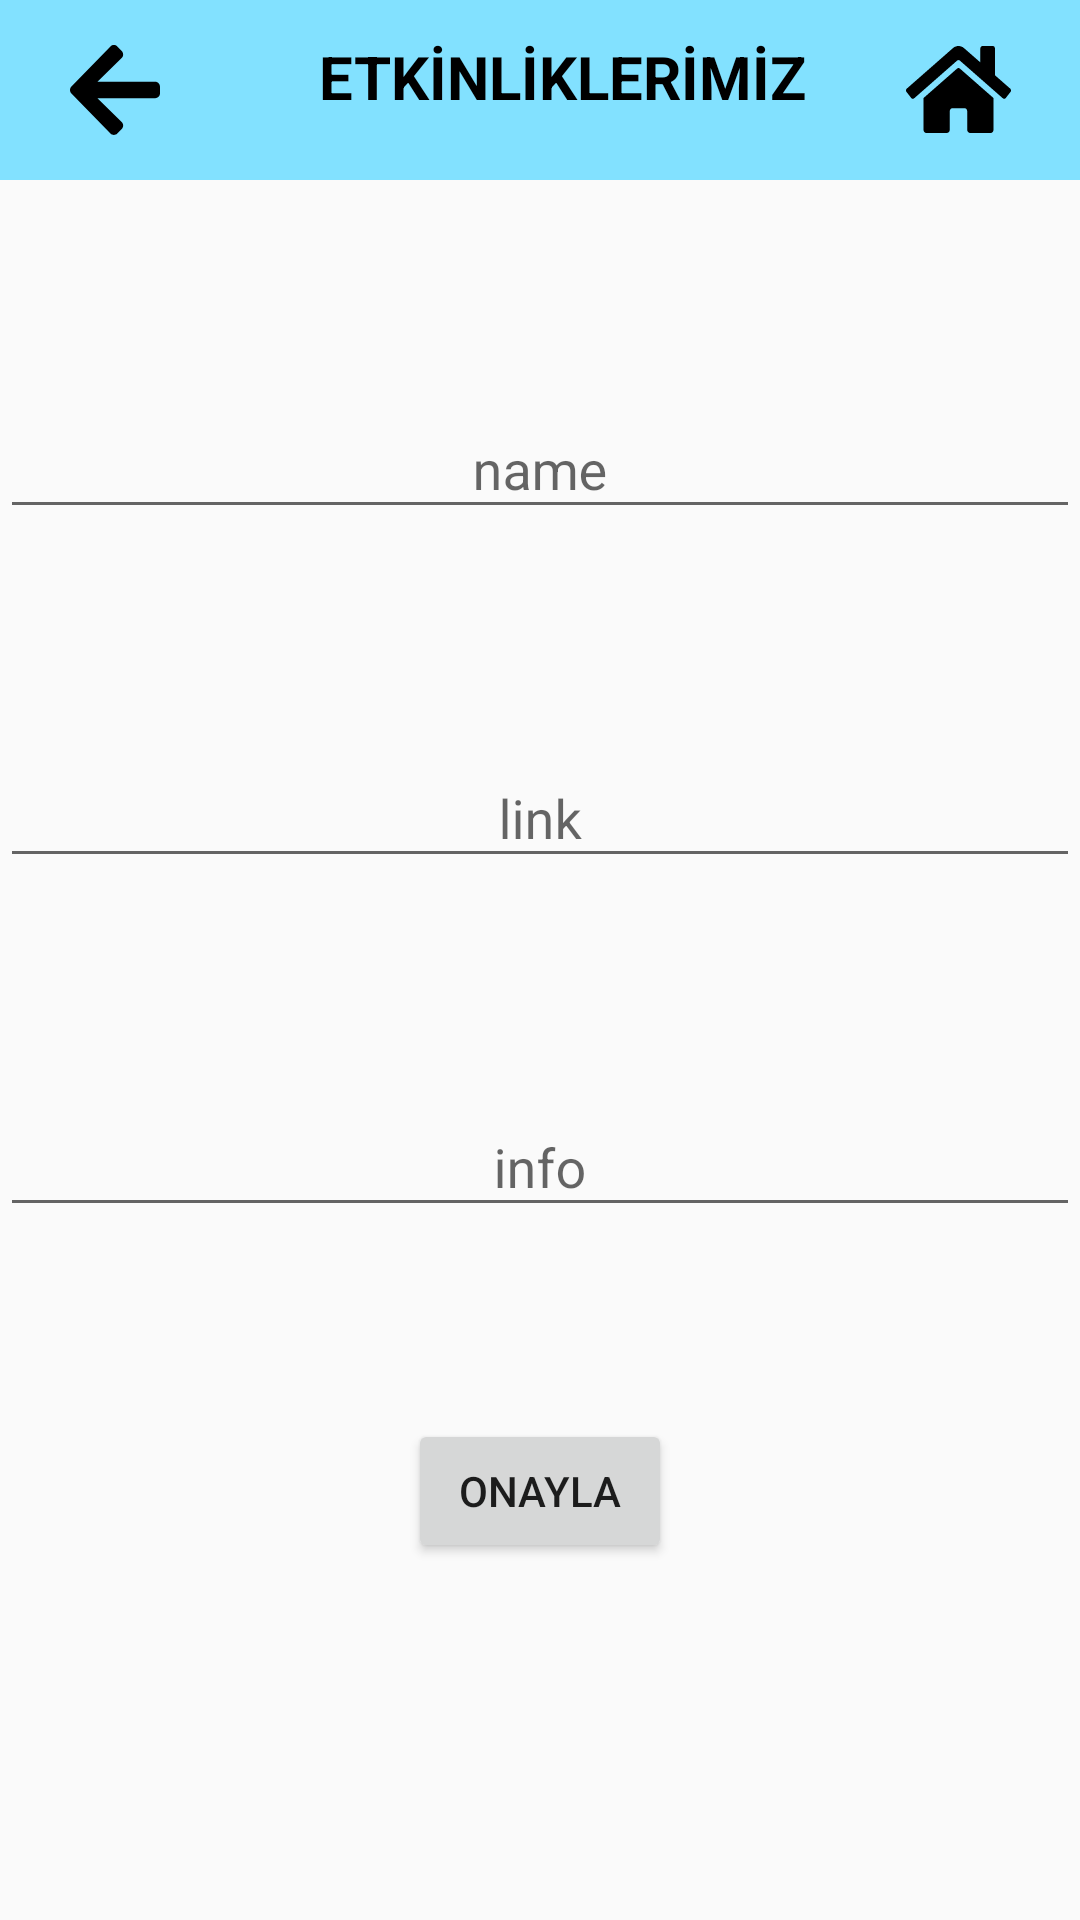

Screen size 1080w x 1920h. Icon name, then its center in pixels as point (x, y):
back: point (115, 90)
home: point (958, 89)
